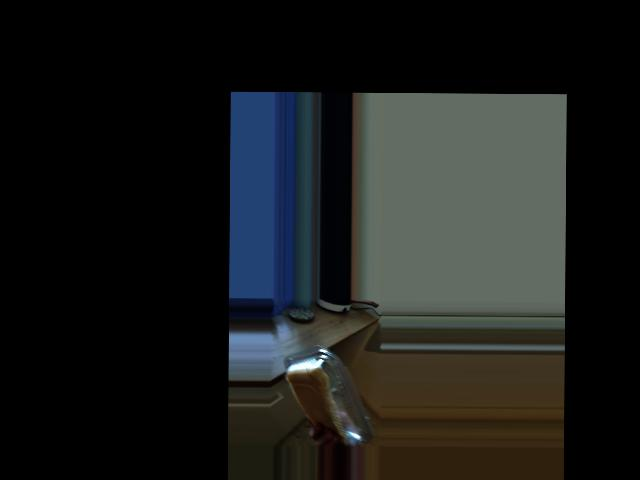cheese: (295, 356, 359, 411)
